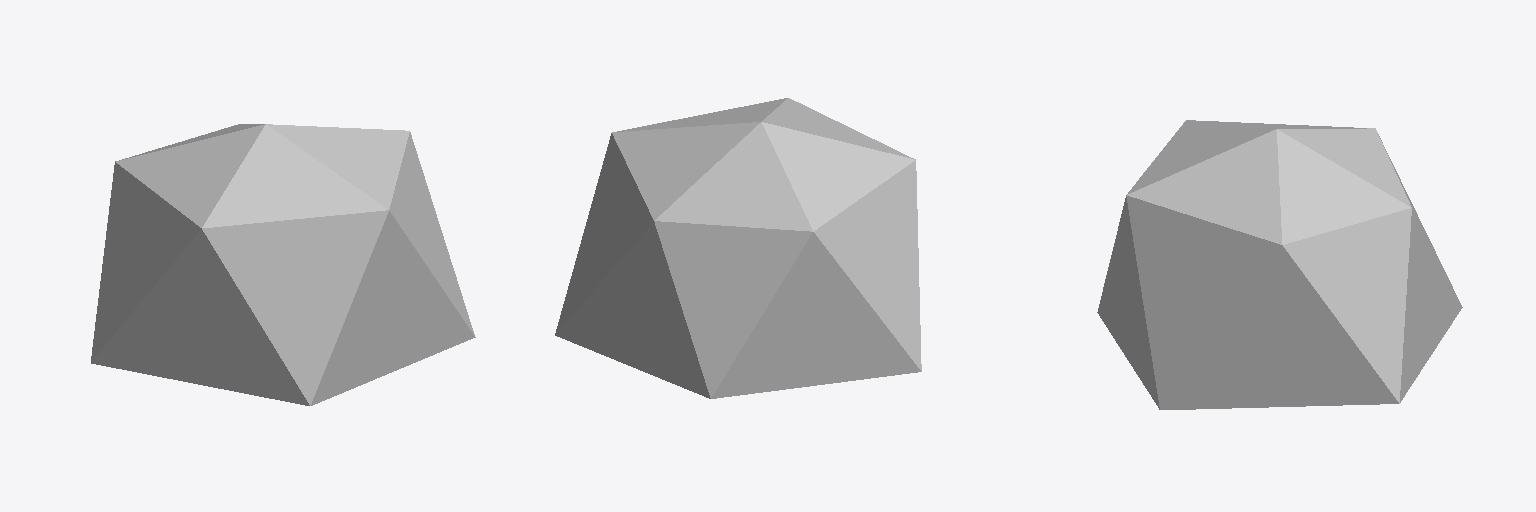
Rendered from st_tree_top_small.obj.
The picture shows the model from 3 angles: view 1: azimuth 30°, elevation 25°; view 2: azimuth 150°, elevation 25°; view 3: azimuth 270°, elevation 25°; orthographic projection.
Parts seen in each view (by area): view 1: Rock.007_Icosphere.015; view 2: Rock.007_Icosphere.015; view 3: Rock.007_Icosphere.015.
Part boxes in pixels (x1,y1,x2,y2): Rock.007_Icosphere.015: (91, 124, 475, 405); Rock.007_Icosphere.015: (555, 98, 921, 398); Rock.007_Icosphere.015: (1097, 120, 1462, 409).
Bounding box in the file's own units: 1.9 × 1.49 × 1.88.